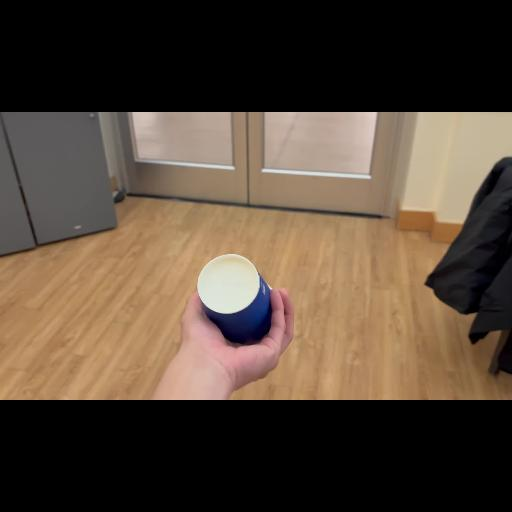lp_paper_cup: (198, 252, 274, 344)
